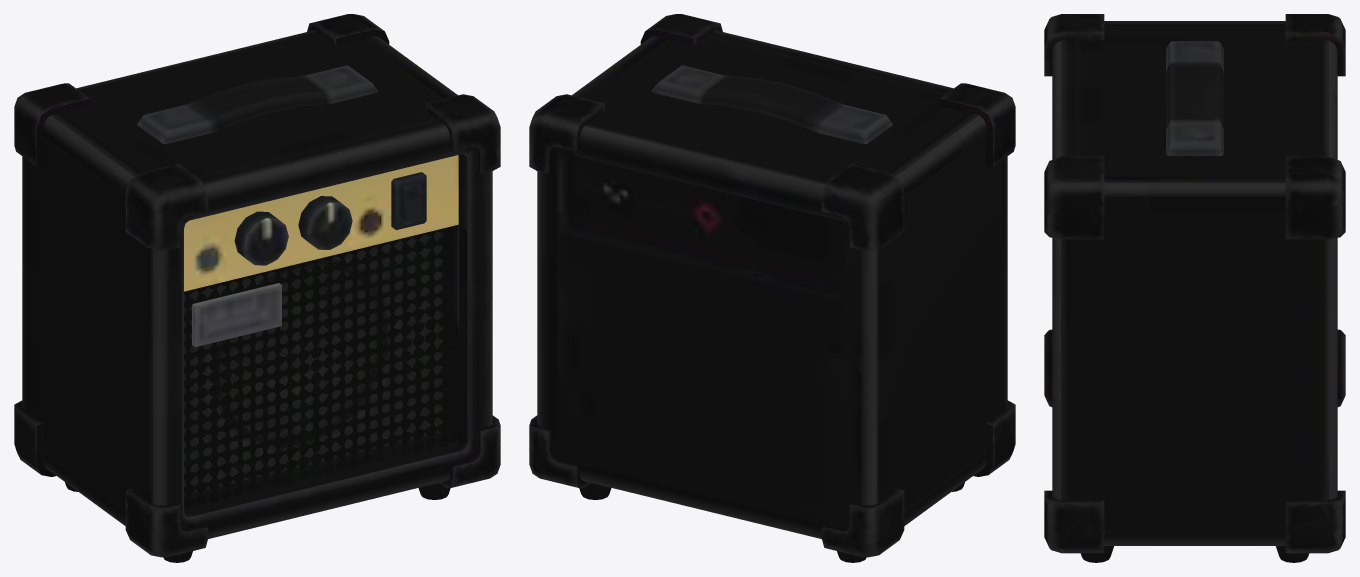
3 views of the same model, side by side, from view 1: azimuth 30°, elevation 25°; view 2: azimuth 150°, elevation 25°; view 3: azimuth 270°, elevation 25° (orthographic). The views are drawn at different scales.
Size of the model in its own units: 7.88 by 8.52 by 5.72.
1 material, 1 textured.
